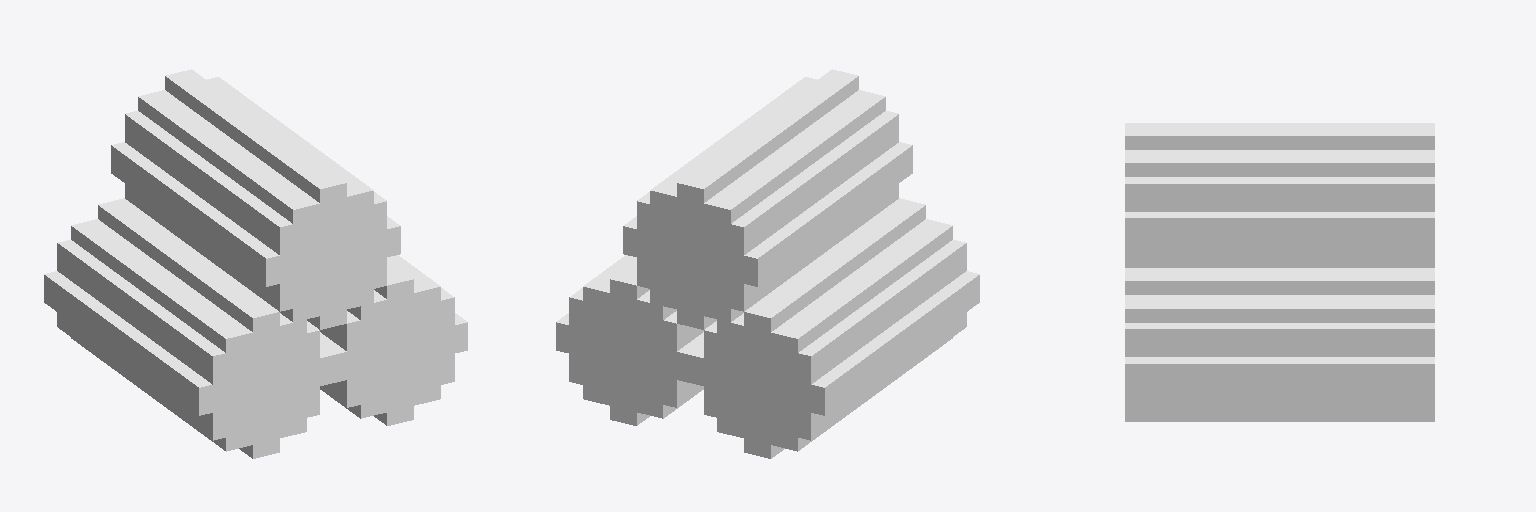
The model's file is LogPile01.obj.
3 renders of one model, left to right at view 1: azimuth 30°, elevation 25°; view 2: azimuth 150°, elevation 25°; view 3: azimuth 270°, elevation 25°, orthographic.
Visible parts, largest first — view 1: object 1; view 2: object 1; view 3: object 1.
Part boxes in pixels (bbox=[...]): object 1: bbox=[44, 69, 467, 458]; object 1: bbox=[556, 69, 979, 458]; object 1: bbox=[1125, 123, 1434, 421].
Size of the model in its own units: 2 by 1.8 by 2.